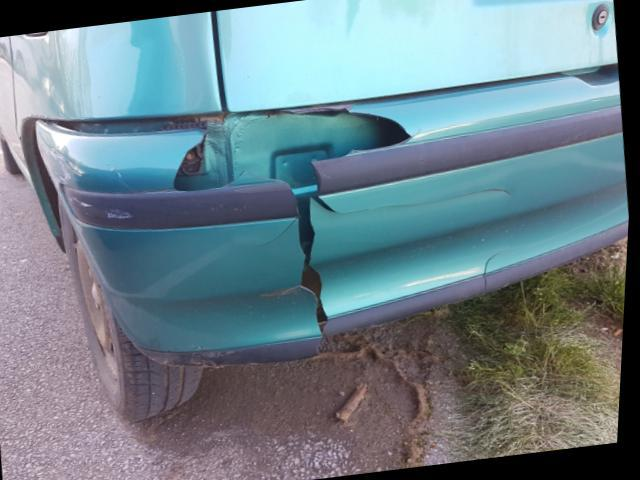crack: (173, 108, 513, 354), (485, 250, 510, 294)
